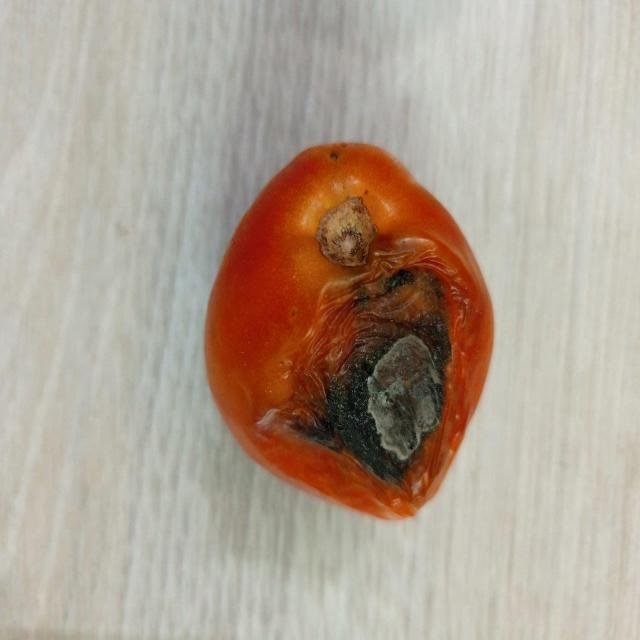Rotten: (204, 142, 495, 520)
